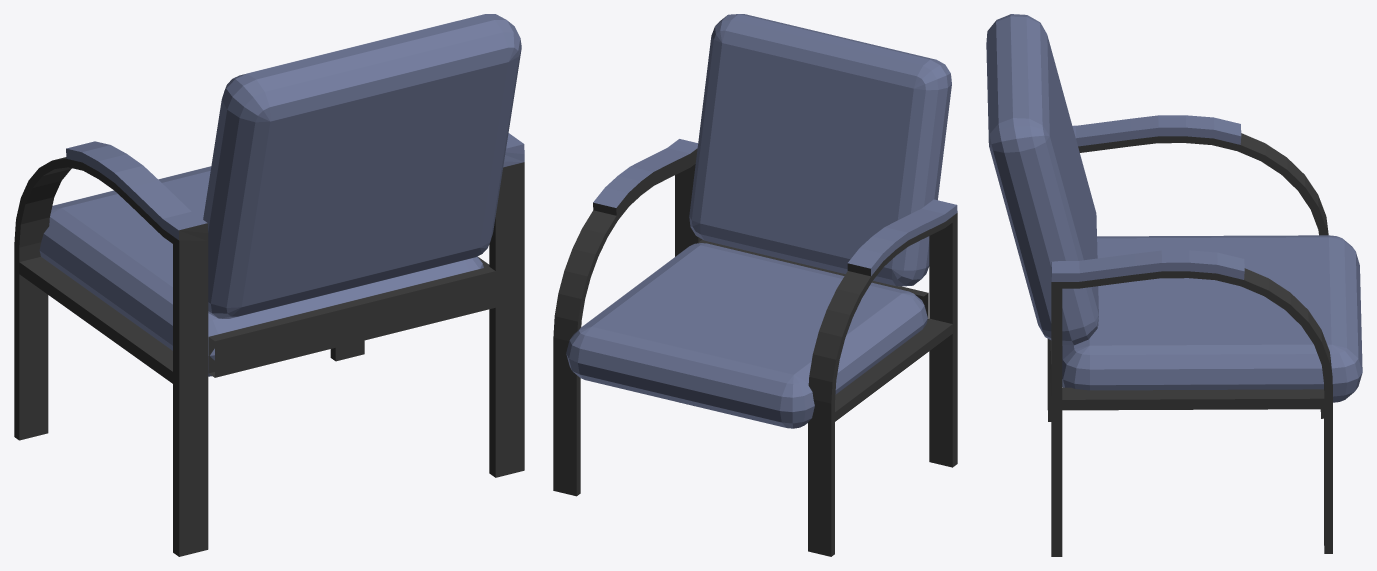
Rendered from chair1.fbx.
3 renders of one model, left to right at view 1: azimuth 30°, elevation 25°; view 2: azimuth 150°, elevation 25°; view 3: azimuth 270°, elevation 25°, orthographic. The views are drawn at different scales.
Visible parts, largest first — view 1: Box003_005_481; view 2: Box003_005_481; view 3: Box003_005_481.
Part boxes in pixels (left/top/right/bottom): Box003_005_481: left=14, top=14, right=524, bottom=556; Box003_005_481: left=553, top=14, right=957, bottom=556; Box003_005_481: left=986, top=14, right=1362, bottom=556.
Bounding box in the file's own units: 69.66 × 91.07 × 74.5.
